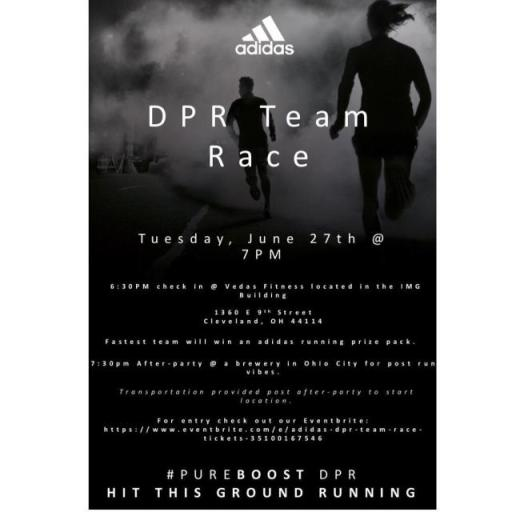Adidas: (233, 12, 295, 58)
